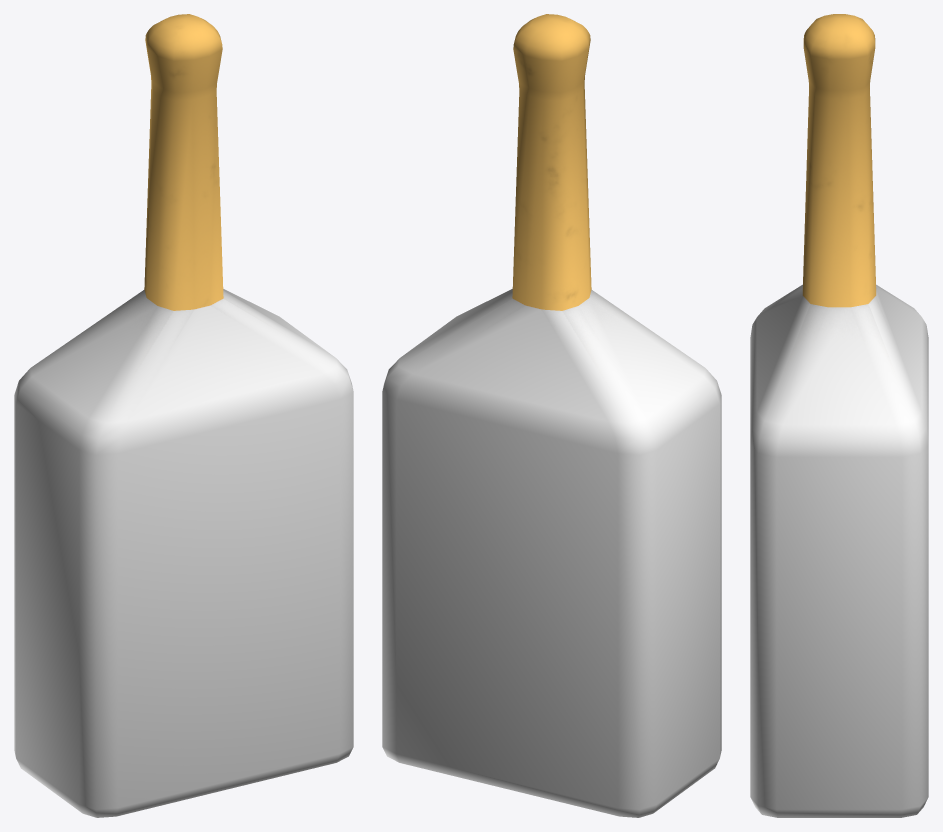
File: connector.fbx
3 renders of one model, left to right at view 1: azimuth 30°, elevation 25°; view 2: azimuth 150°, elevation 25°; view 3: azimuth 270°, elevation 25°, orthographic.
Parts seen in each view (by area): view 1: Connector; view 2: Connector; view 3: Connector.
Part boxes in pixels (x1,y1,x2,y2): Connector: [14, 14, 353, 817]; Connector: [382, 14, 721, 817]; Connector: [750, 14, 928, 817].
Bounding box in the file's own units: 5.28 × 13.74 × 3.
1 material, 1 textured.
